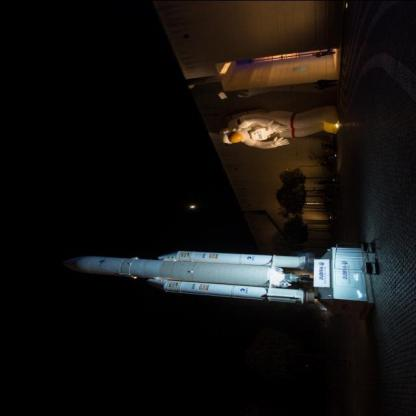MIL_TBM: (50, 254, 289, 287)
